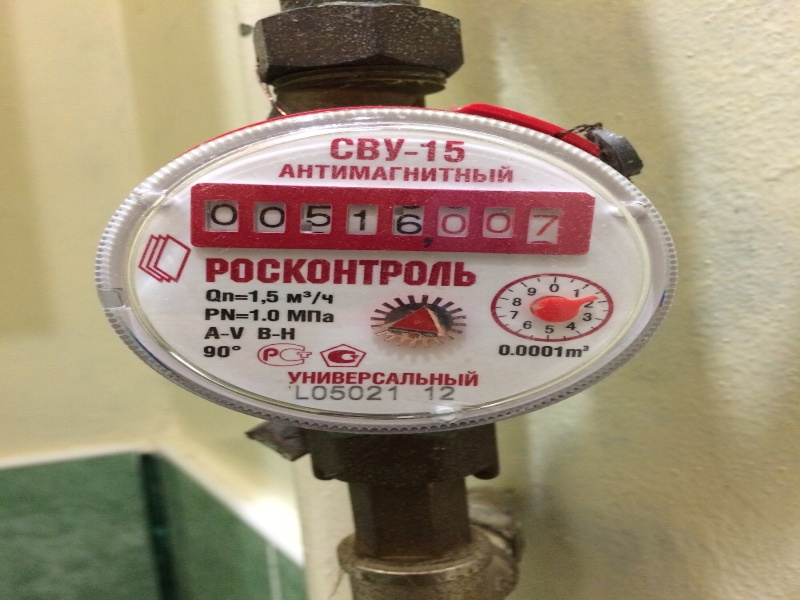meter: (188, 183, 588, 256)
